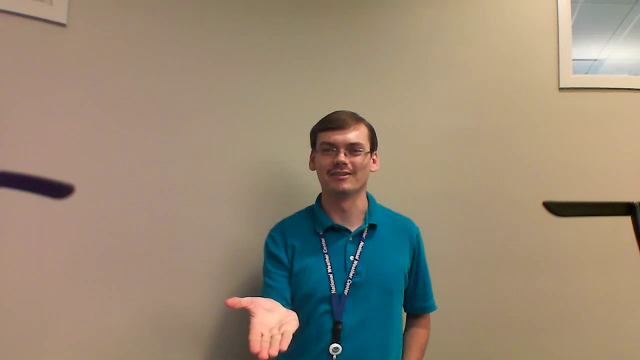land: (223, 290, 301, 360)
